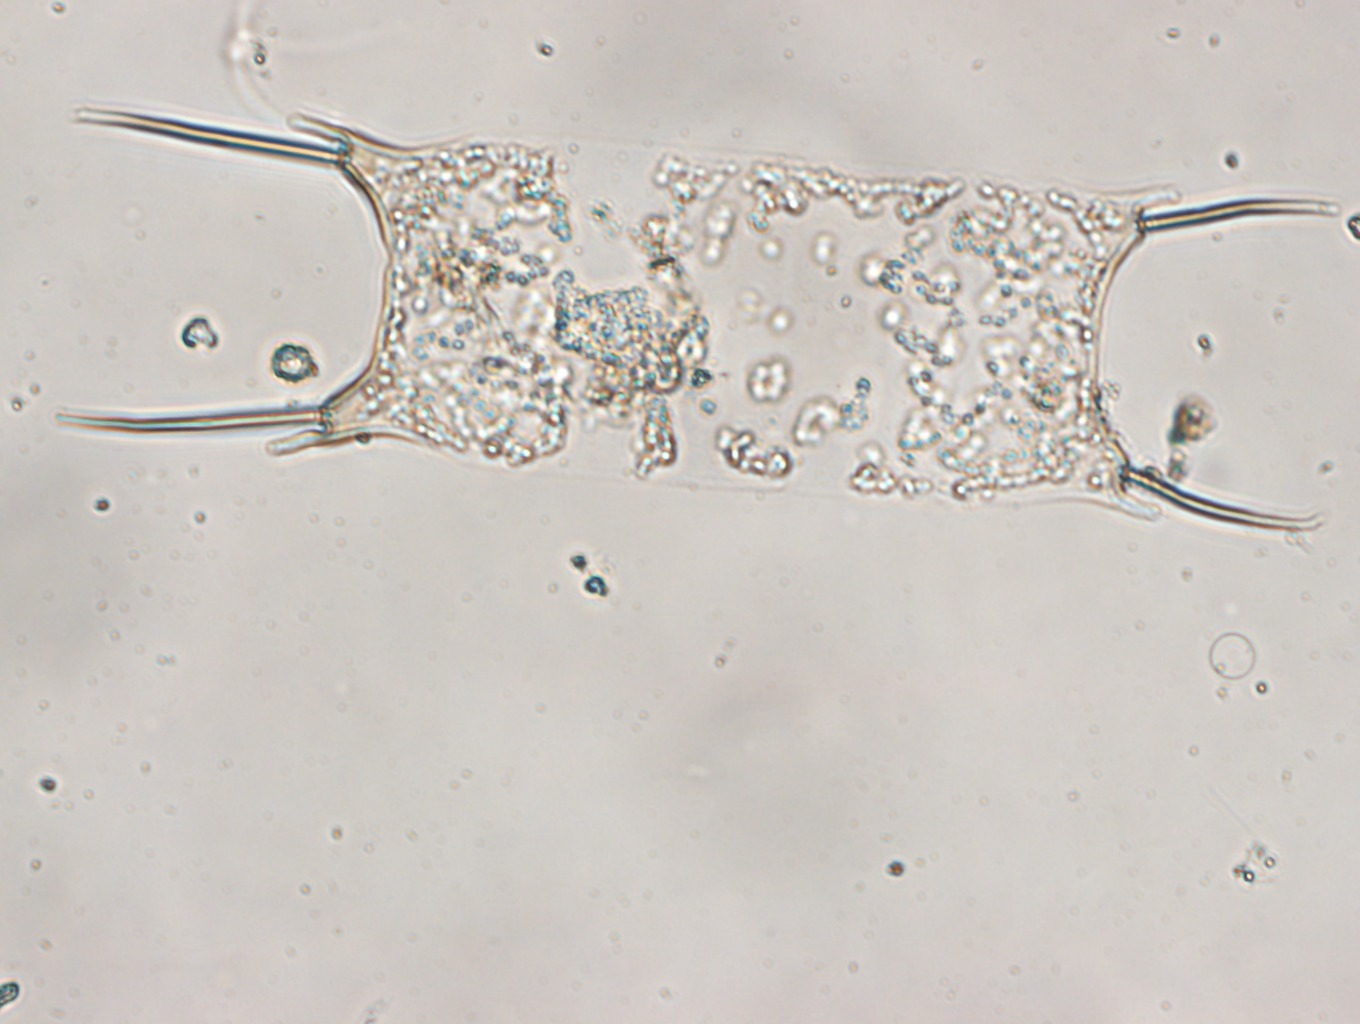biddulphia: (49, 93, 1341, 532)
